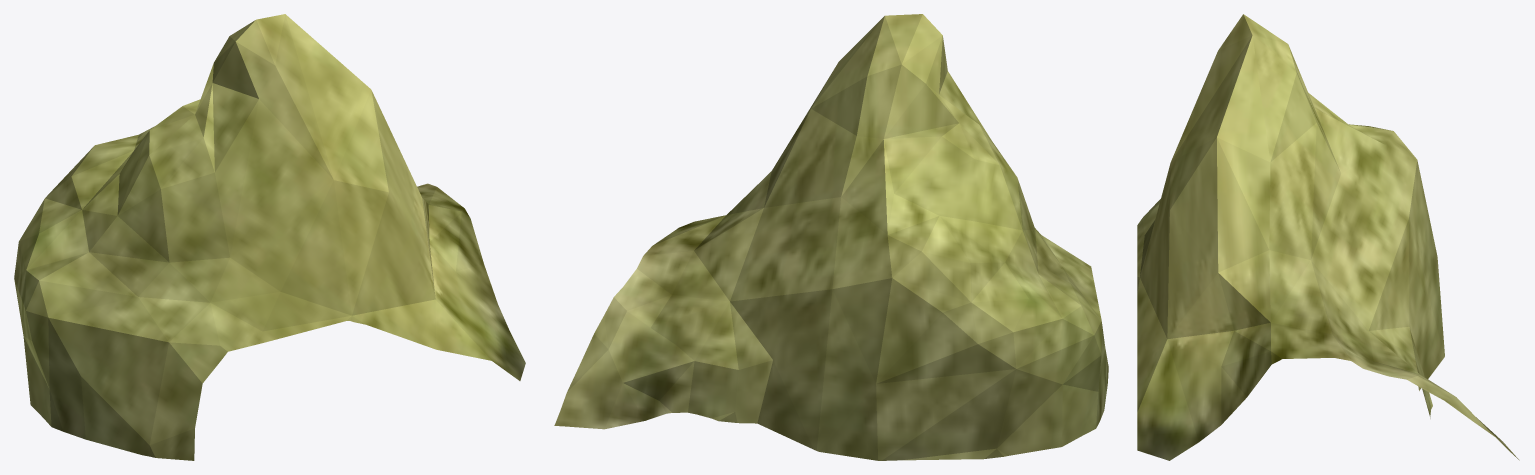
3 views of the same model, side by side, from view 1: azimuth 30°, elevation 25°; view 2: azimuth 150°, elevation 25°; view 3: azimuth 270°, elevation 25° (orthographic). The views are drawn at different scales.
Size of the model in its own units: 1.41 by 1.15 by 1.16.
Materials: 1 (1 with a texture image).
